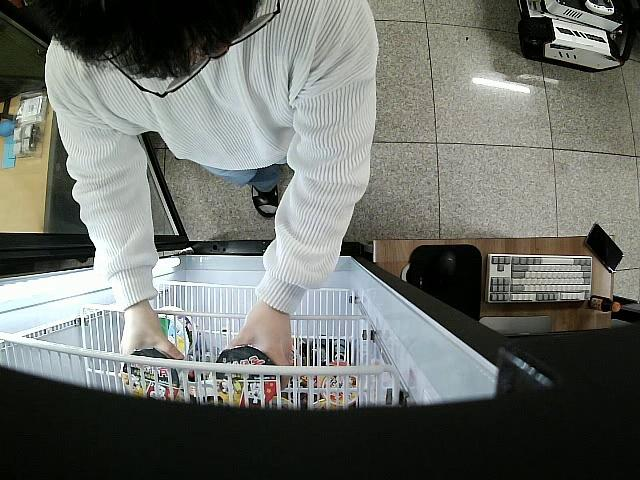00_hand: (223, 301, 293, 389), (120, 307, 187, 361)
08_buldak_S: (215, 350, 283, 407), (121, 349, 178, 401)
